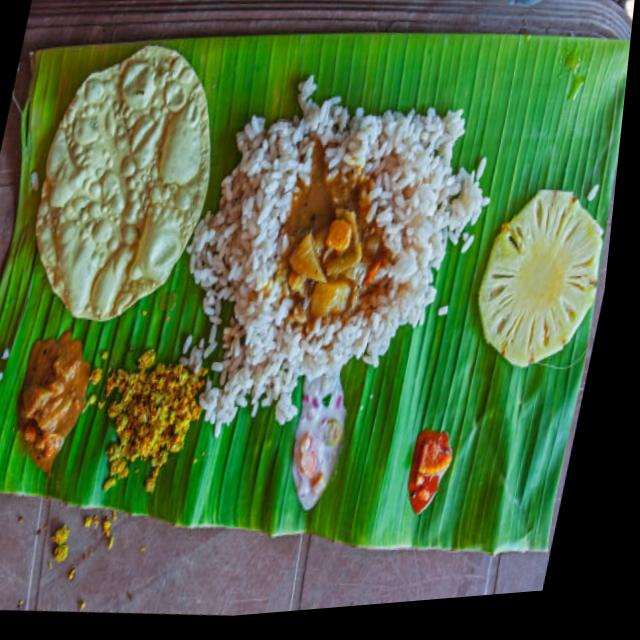PAPADAM: (35, 46, 210, 320)
PICKLE: (403, 428, 453, 519)
RICE: (190, 71, 493, 436)
VEGGIES: (101, 345, 204, 496), (12, 324, 92, 478)
